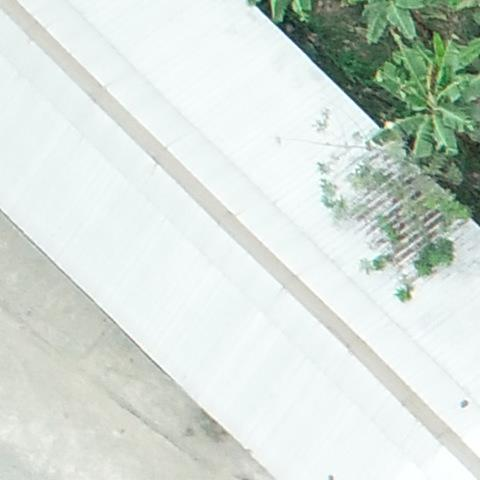Banana-plant: (380, 37, 479, 156)
